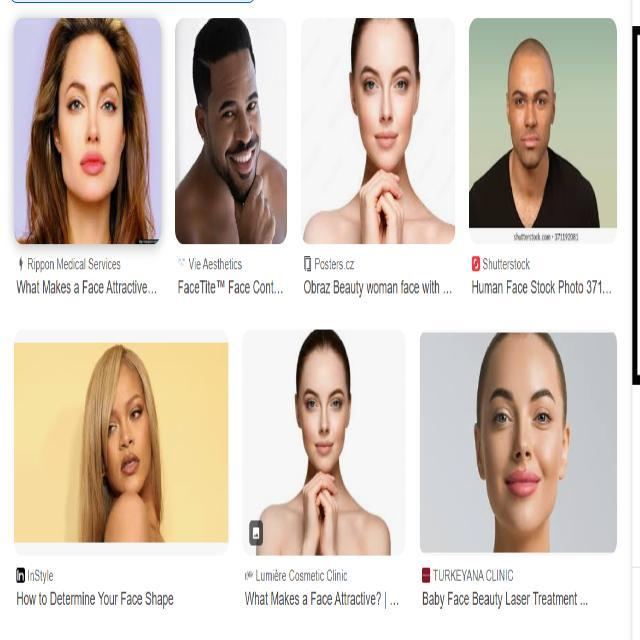face_no_mask: (474, 341, 572, 532), (54, 28, 128, 192), (349, 23, 421, 173), (194, 54, 264, 197), (292, 342, 354, 466), (505, 41, 558, 168), (104, 369, 155, 494)
